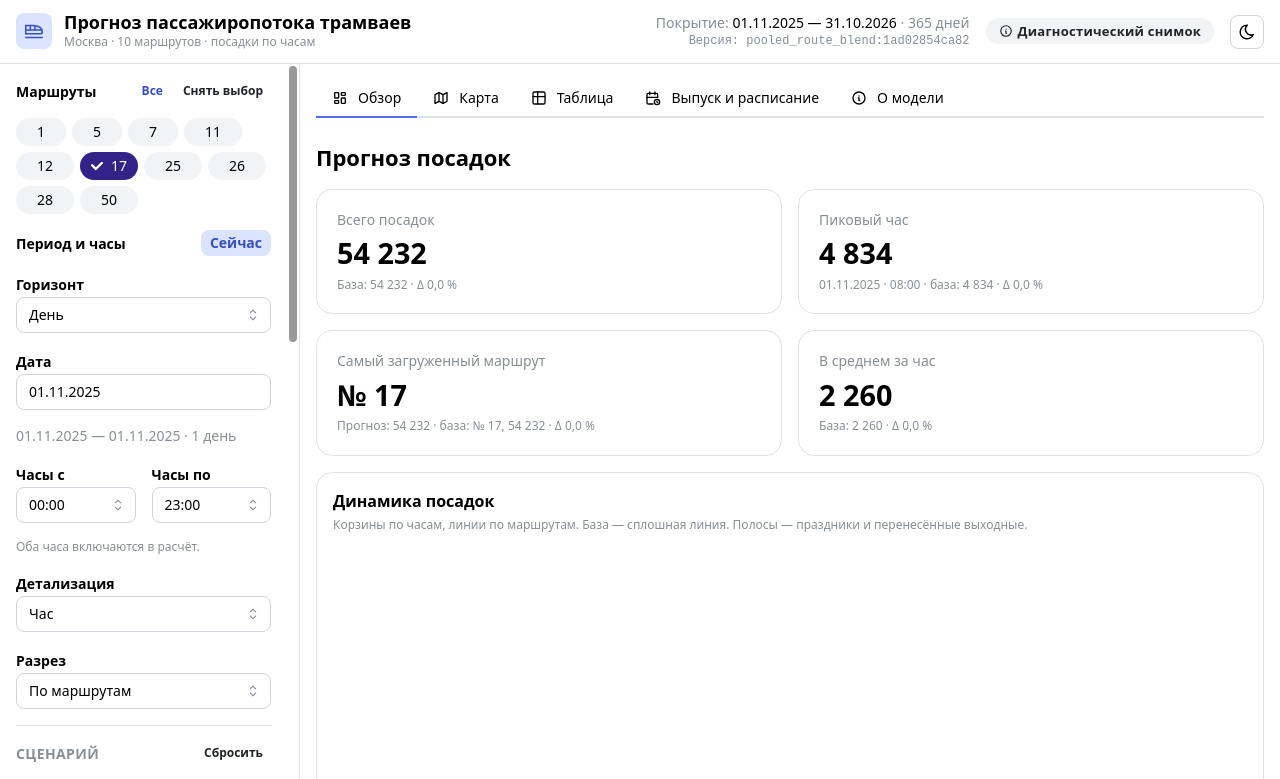
Test case: панель, запросы и KPI как один поток › часовой фильтр пересчитывает KPI без сети, пустой выбор ничего не запрашивает, кэш восстанавливает данные
The width and height of the screenshot is (1280, 779).
Expected: the element "Всего посадок" is shown, [316, 189, 782, 314]
Select "07:00" in the dropdown labelled "Часы с" at (76, 505), box [16, 487, 136, 523]
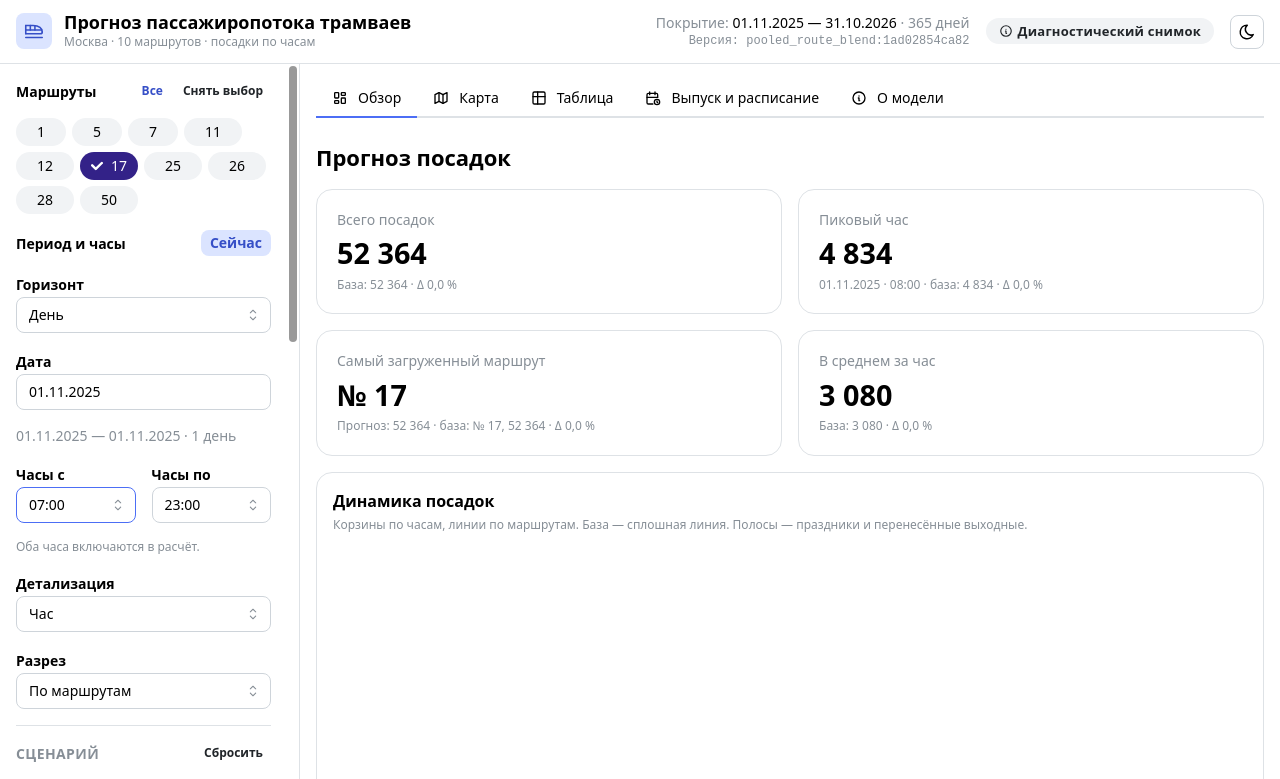
Select "10:00" in the dropdown labelled "Часы по" at (211, 505), box [152, 487, 271, 523]
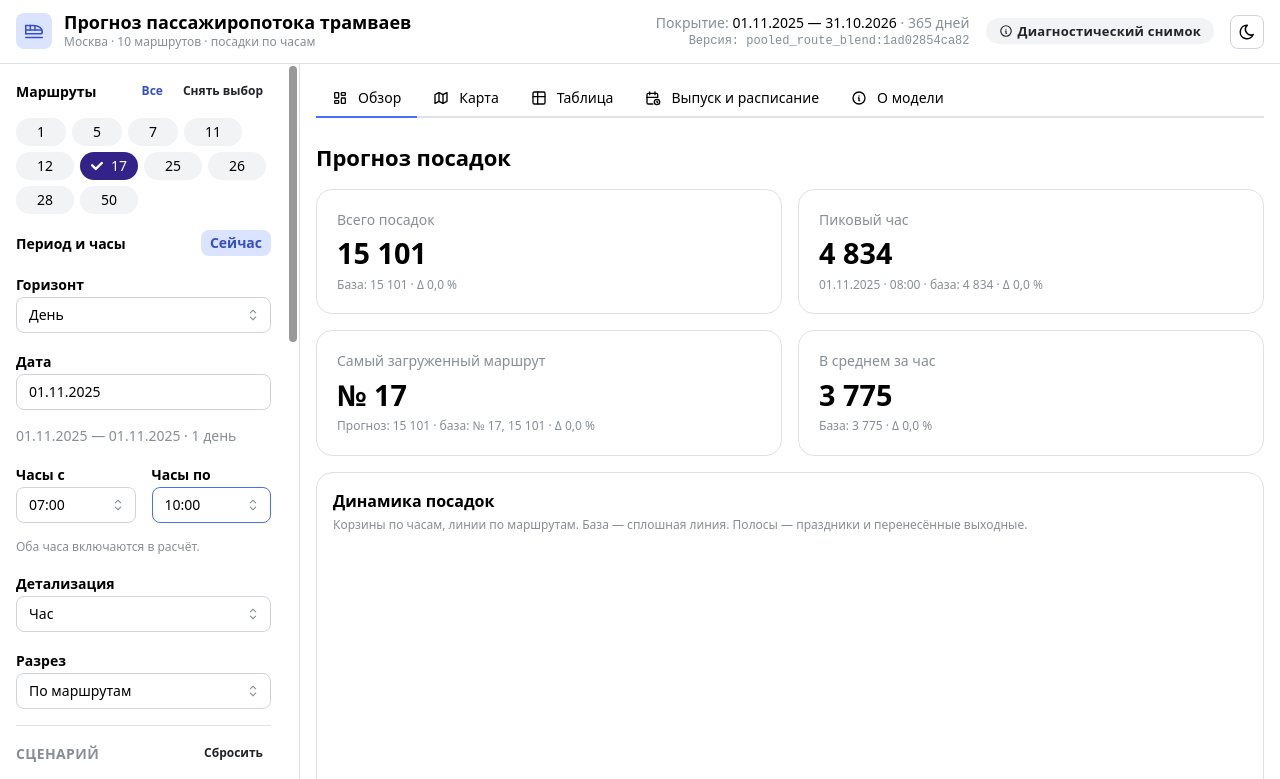
Click the button "Снять выбор" at (223, 91), box [175, 80, 271, 102]
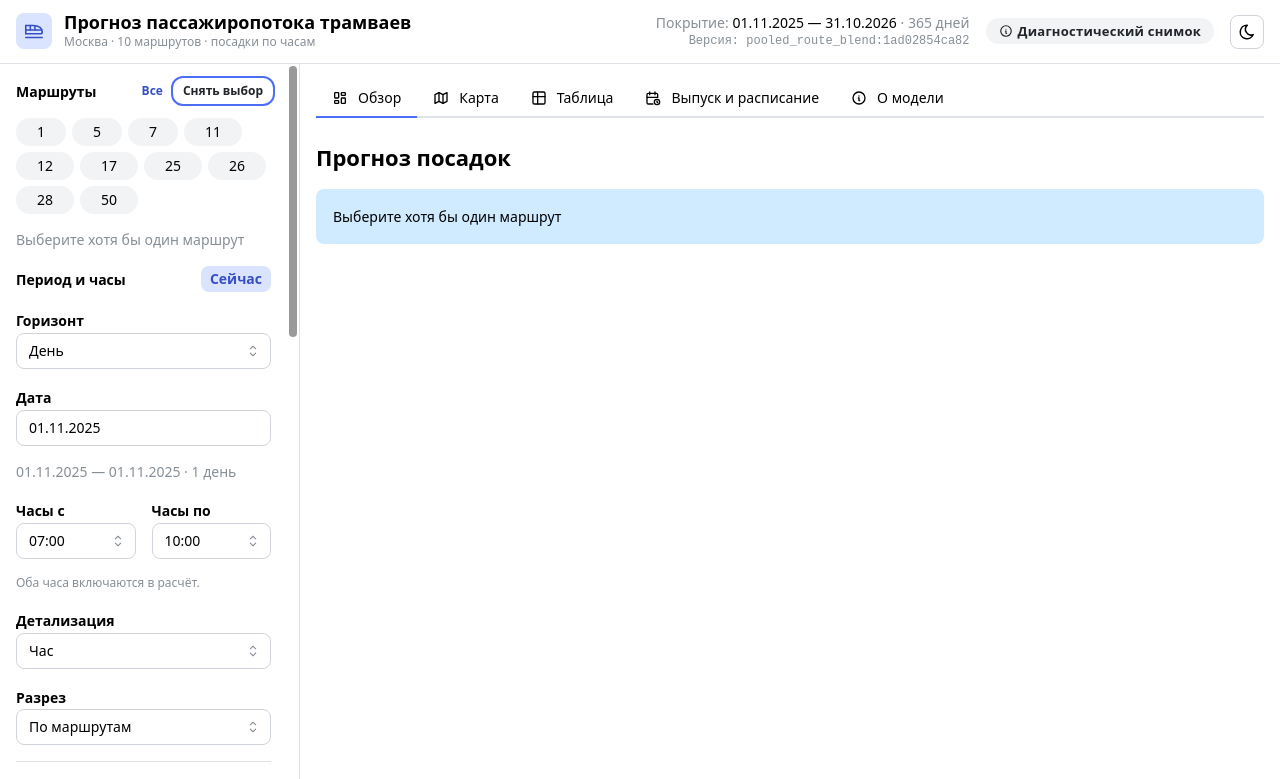
Result: the text "Выберите хотя бы один маршрут" is shown 2 times at [16, 230, 271, 250]; [333, 207, 561, 226]
Result: the text "Всего посадок" is gone
Click the checkbox named "Маршрут 17" at (109, 166), box [80, 152, 138, 180]
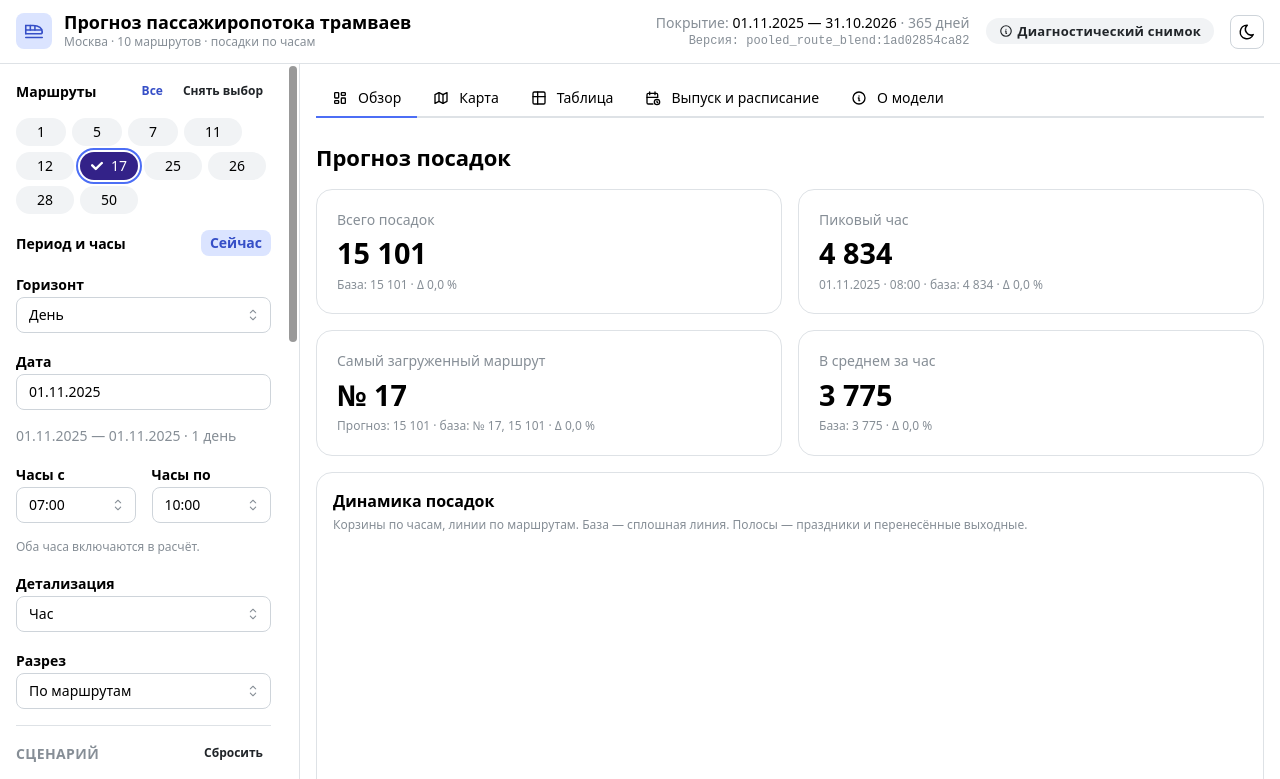
Result: the element "Всего посадок" is shown at [316, 189, 782, 314]
